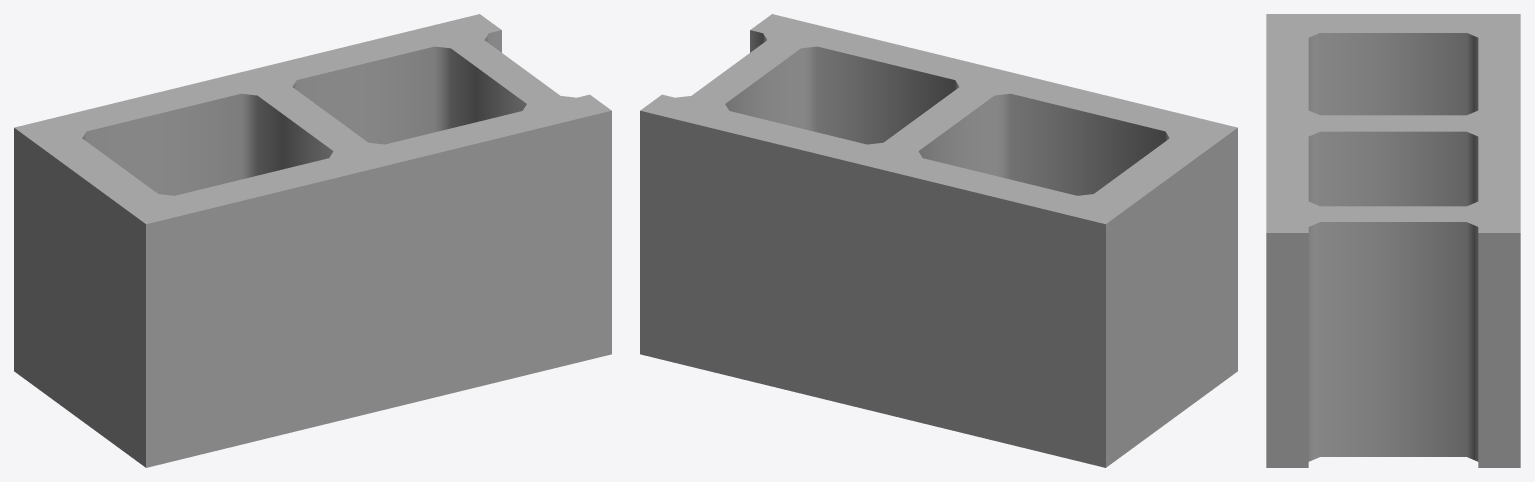
Rendered from f6dbc19f-fdf9-4fb6-9e29-f7f01100461a.glb.
3 views of the same model, side by side, from view 1: azimuth 30°, elevation 25°; view 2: azimuth 150°, elevation 25°; view 3: azimuth 270°, elevation 25° (orthographic). The views are drawn at different scales.
Parts seen in each view (by area): view 1: CMU-corner; view 2: CMU-corner; view 3: CMU-corner.
Boxes of the visible parts, <box> form: CMU-corner: <box>14,14,611,467</box>; CMU-corner: <box>640,14,1237,467</box>; CMU-corner: <box>1266,14,1520,467</box>.
Size of what is drawn, in the model's own units: 0.3999 by 0.2 by 0.1964.
1 material, 1 textured.
